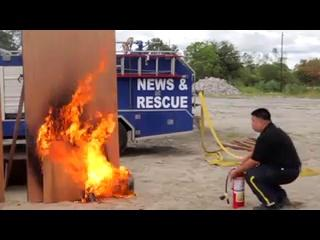Fire: (33, 47, 134, 202)
